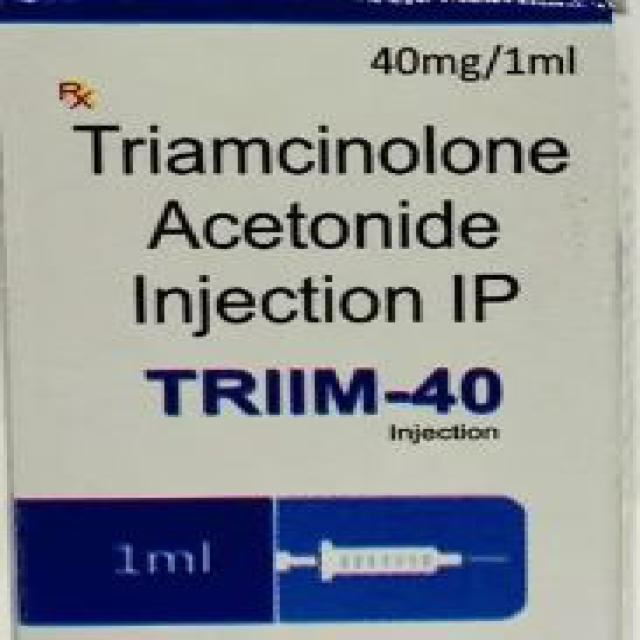drug-name: (144, 360, 508, 422)
